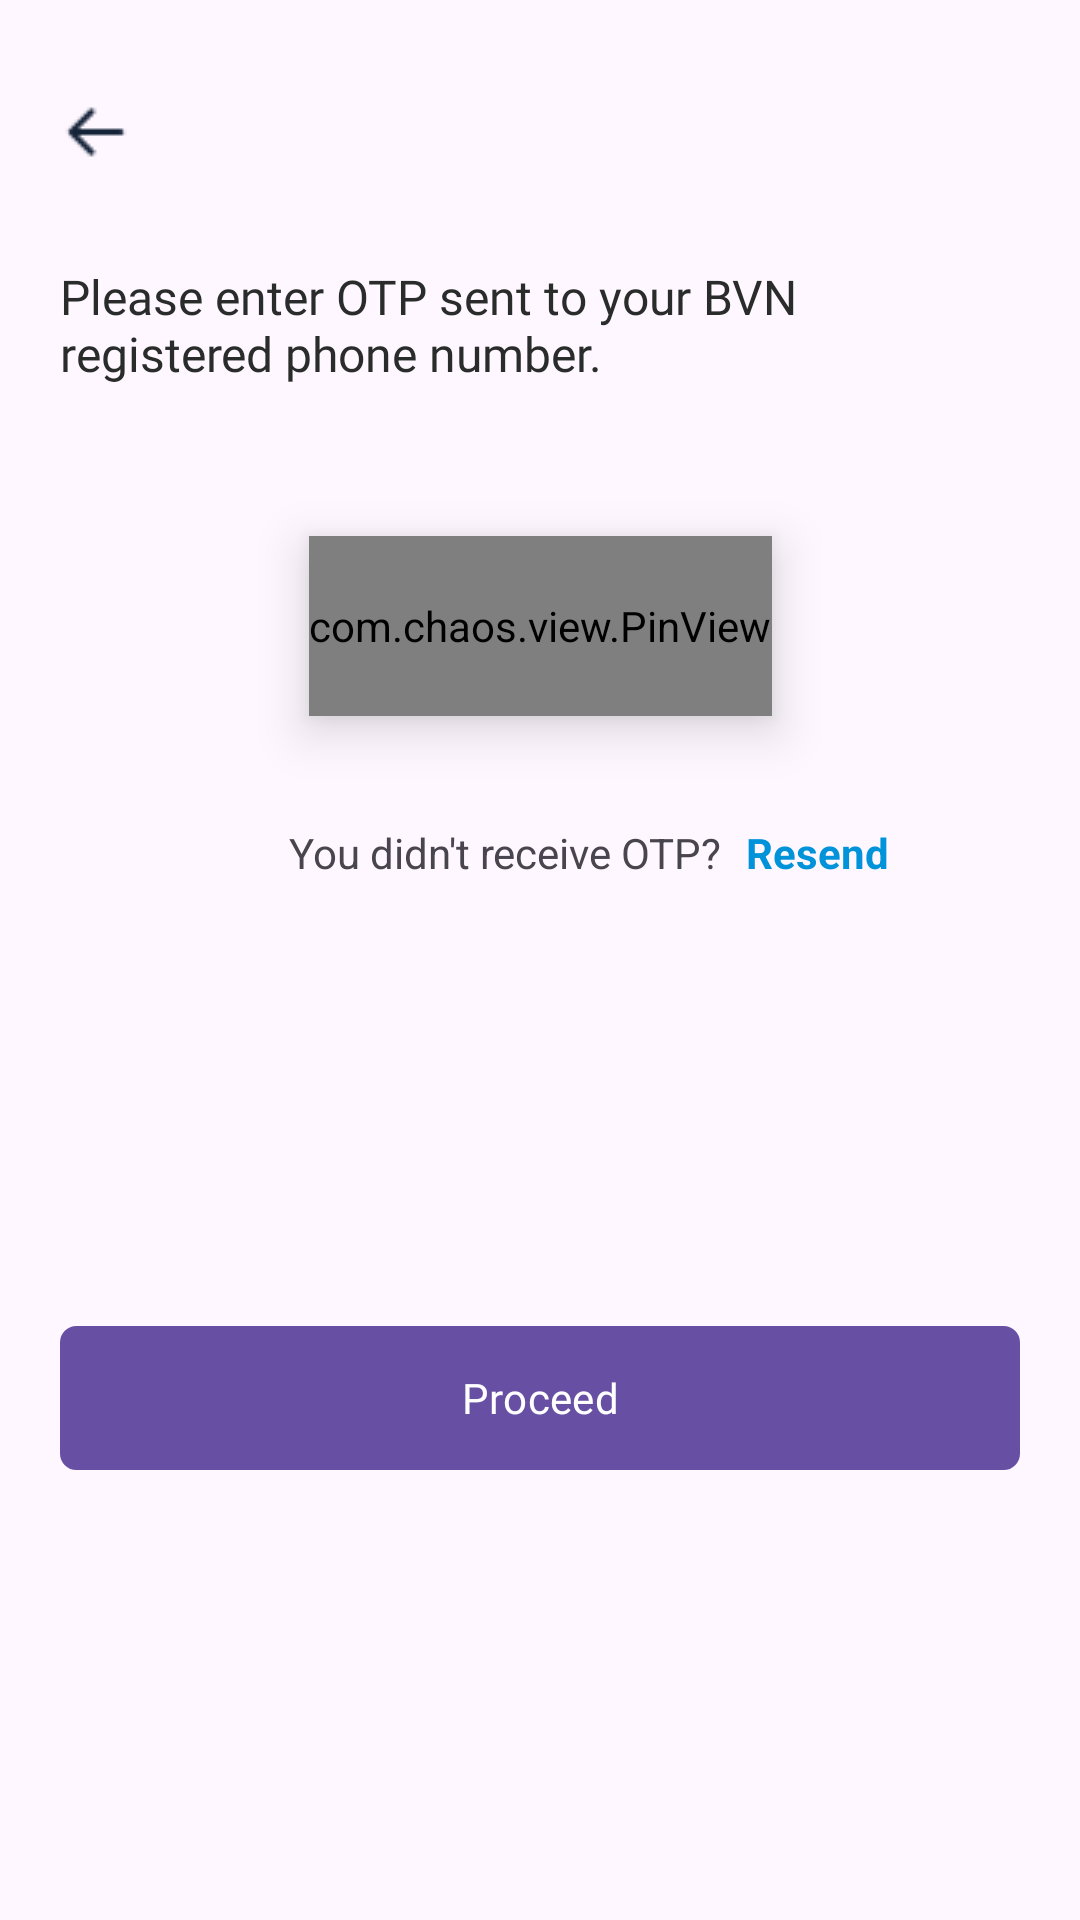

Screen size 1080×1920. Icon name, then its box in pixels as (x1, y1, x2, y2):
arrowleft: (67, 107, 125, 157)
